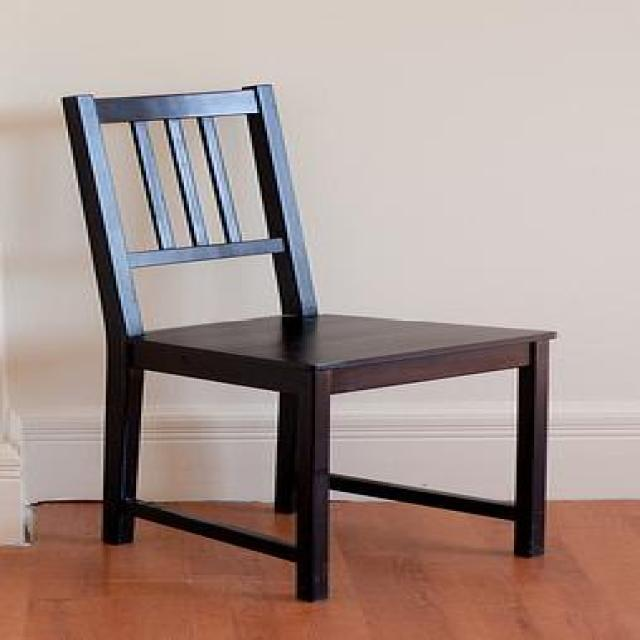chair: (57, 79, 561, 603)
